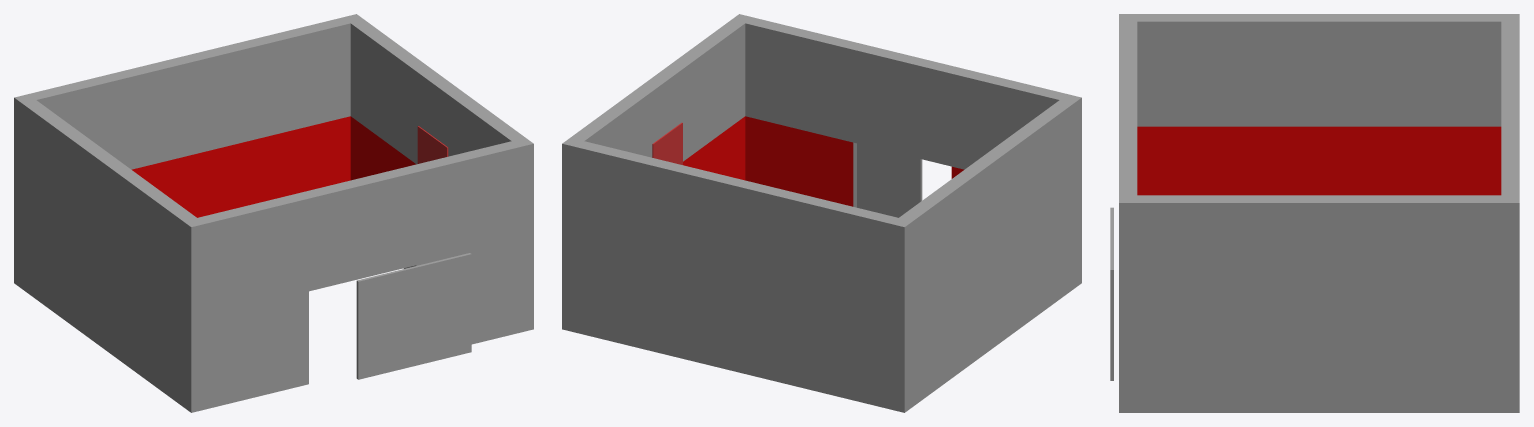
Rendered from kouj.fbx.
The picture shows the model from 3 angles, left to right: view 1: azimuth 30°, elevation 25°; view 2: azimuth 150°, elevation 25°; view 3: azimuth 270°, elevation 25°; orthographic projection. The views are drawn at different scales.
Parts seen in each view (by area): view 1: o1, pCube10; view 2: o1, pCube10; view 3: o1, pCube10.
Boxes of the visible parts, x1=… form: o1: x1=14, y1=14, x2=533, y2=412; pCube10: x1=356, y1=253, x2=471, y2=379; o1: x1=562, y1=14, x2=1081, y2=412; pCube10: x1=857, y1=143, x2=922, y2=217; o1: x1=1119, y1=14, x2=1519, y2=412; pCube10: x1=1110, y1=207, x2=1113, y2=380.
Bounding box in the file's own units: 67.68 × 35.81 × 61.93.
